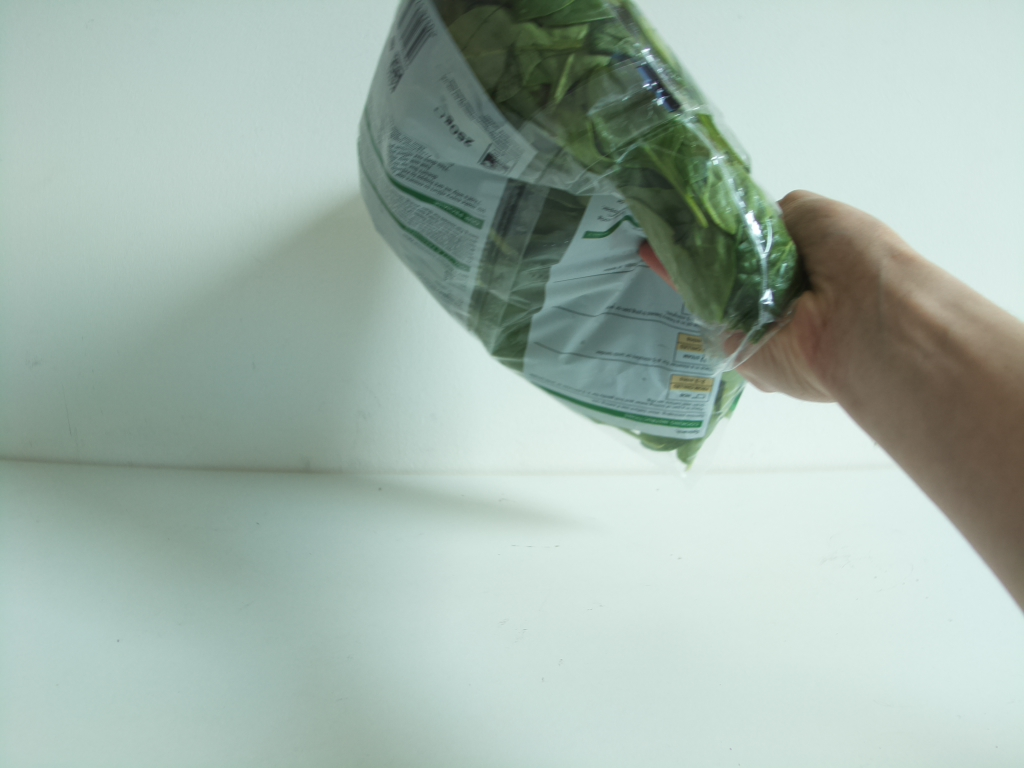salad: (352, 1, 794, 470)
